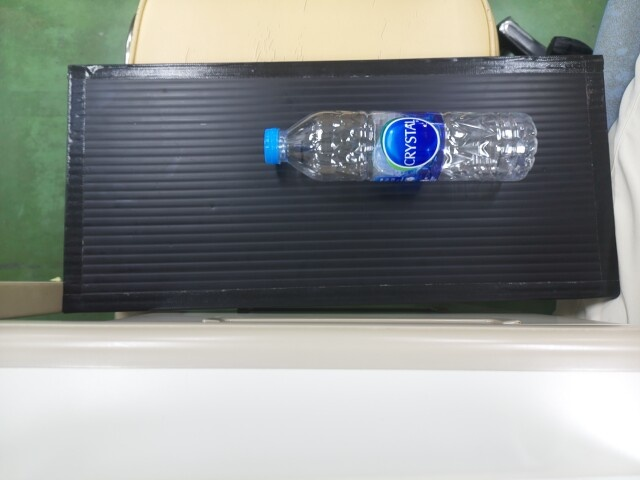plastic_bottle: (261, 108, 534, 186)
